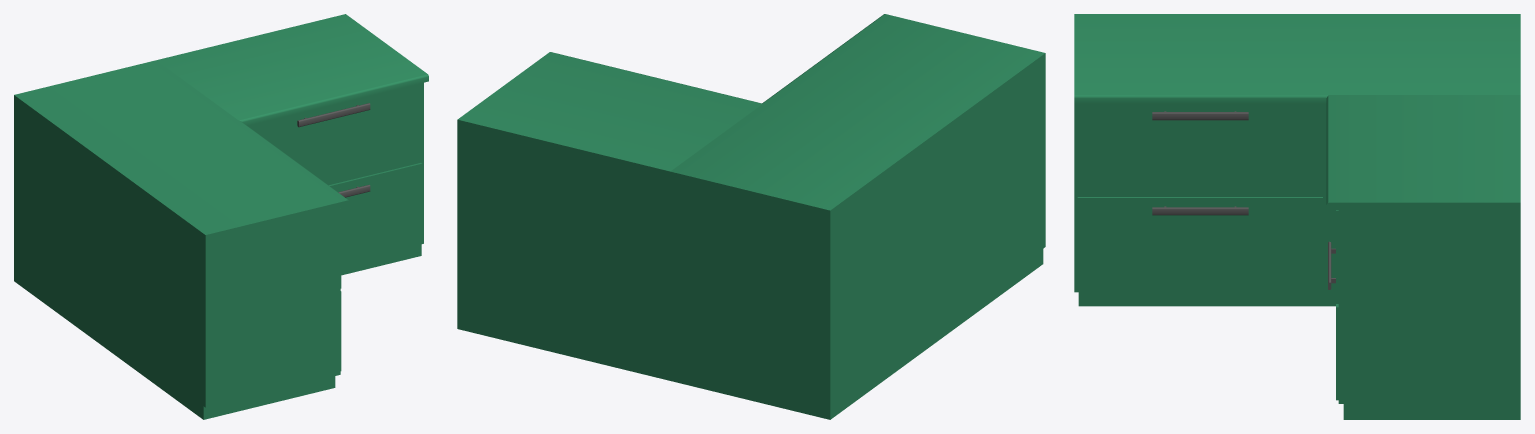
Rendered from mcp_kitchen_cupboard_table_03.FBX.
3 views of the same model, side by side, from view 1: azimuth 30°, elevation 25°; view 2: azimuth 150°, elevation 25°; view 3: azimuth 270°, elevation 25° (orthographic). The views are drawn at different scales.
Parts seen in each view (by area): view 1: mcp_kitchen_cupboard_table_03, mcp_kitchen_cupboard_table_03_knobs; view 2: mcp_kitchen_cupboard_table_03; view 3: mcp_kitchen_cupboard_table_03, mcp_kitchen_cupboard_table_03_knobs.
Boxes of the visible parts, x1=… form: mcp_kitchen_cupboard_table_03: x1=14, y1=14, x2=428, y2=419; mcp_kitchen_cupboard_table_03_knobs: x1=297, y1=103, x2=370, y2=197; mcp_kitchen_cupboard_table_03: x1=457, y1=14, x2=1045, y2=419; mcp_kitchen_cupboard_table_03: x1=1074, y1=14, x2=1520, y2=419; mcp_kitchen_cupboard_table_03_knobs: x1=1152, y1=111, x2=1335, y2=289.
Bounding box in the file's own units: 198 × 106 × 198.
